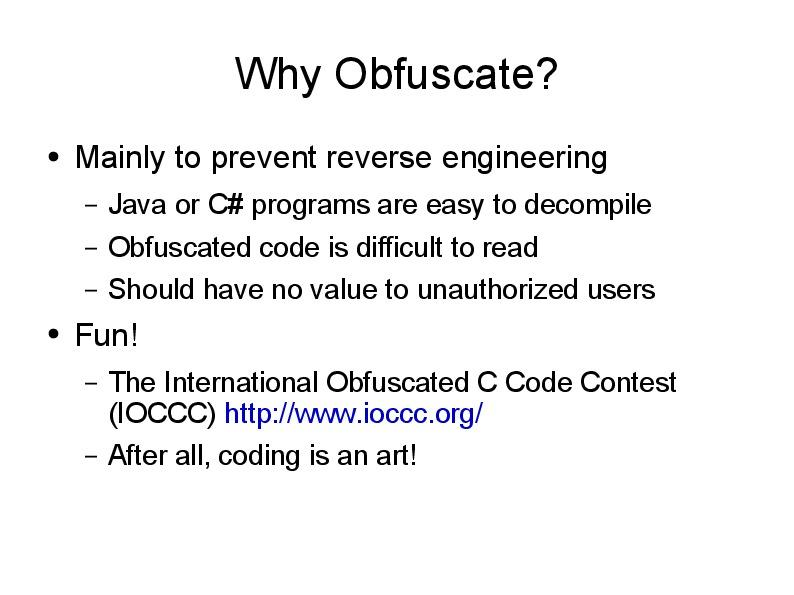paragraph: (60, 118, 723, 503)
subtitle: (69, 312, 156, 356)
title: (214, 23, 581, 113)
